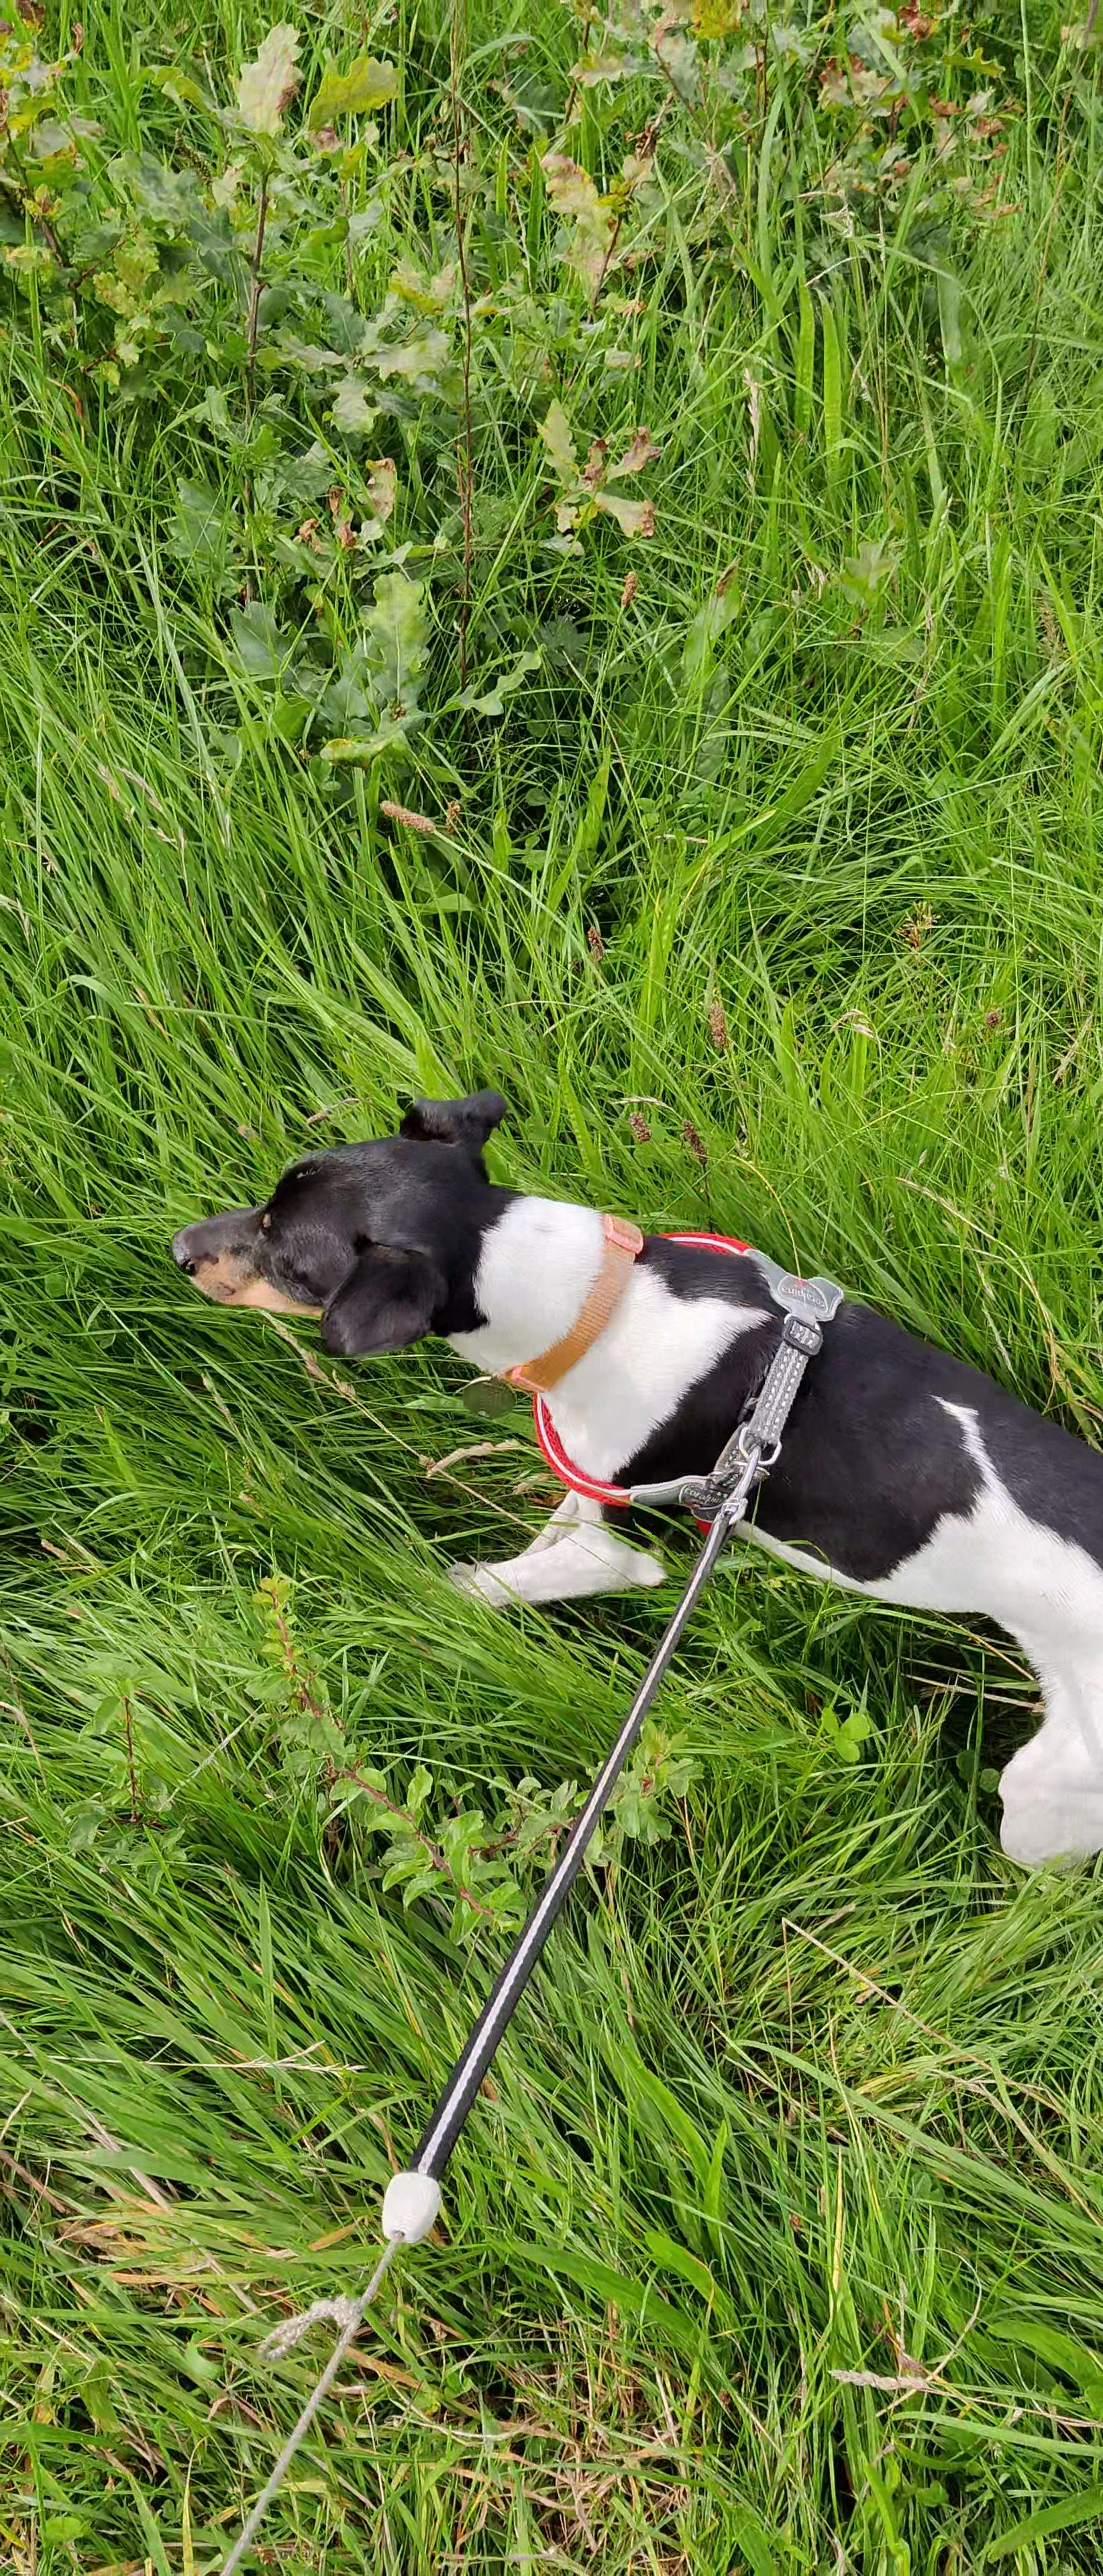Dog: (158, 1088, 1103, 1891)
